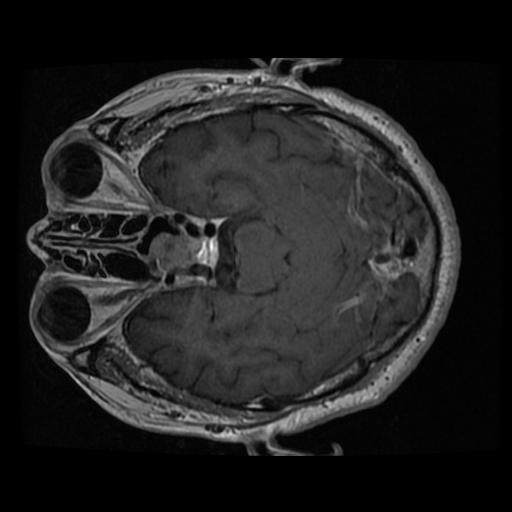pituitary tumour: (151, 235, 199, 273)
